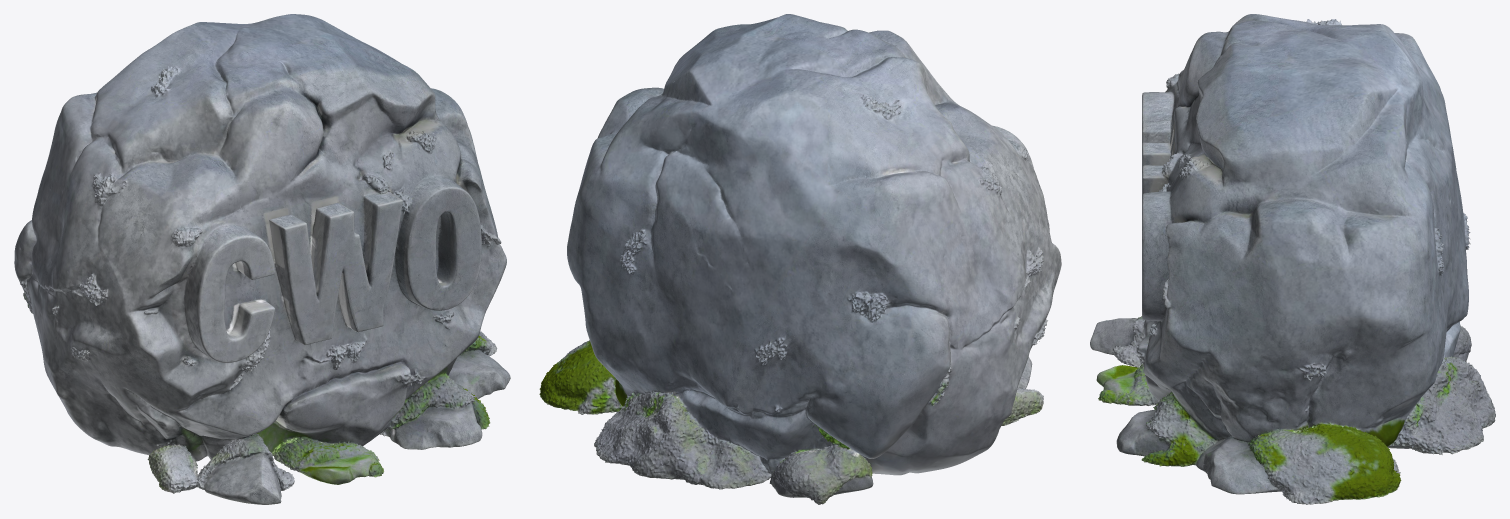
Rendered from CWOROCK_final.glb.
3 views of the same model, side by side, from view 1: azimuth 30°, elevation 25°; view 2: azimuth 150°, elevation 25°; view 3: azimuth 270°, elevation 25° (orthographic). The views are drawn at different scales.
Bounding box in the file's own units: 1.89 × 1.47 × 1.53.
1 material, 1 textured.
